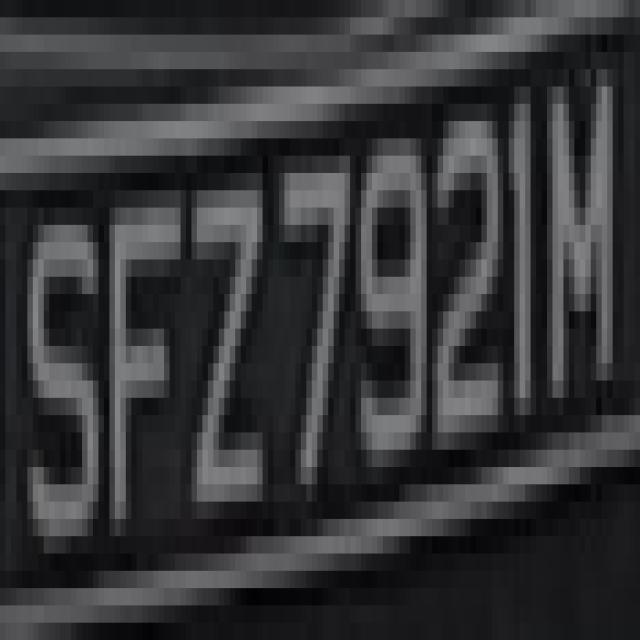1: (503, 34, 547, 554)
2: (427, 52, 503, 484)
7: (262, 87, 356, 484)
9: (344, 52, 426, 502)
F: (93, 156, 181, 536)
M: (536, 52, 624, 450)
S: (17, 155, 98, 570)
Z: (170, 104, 274, 571)
